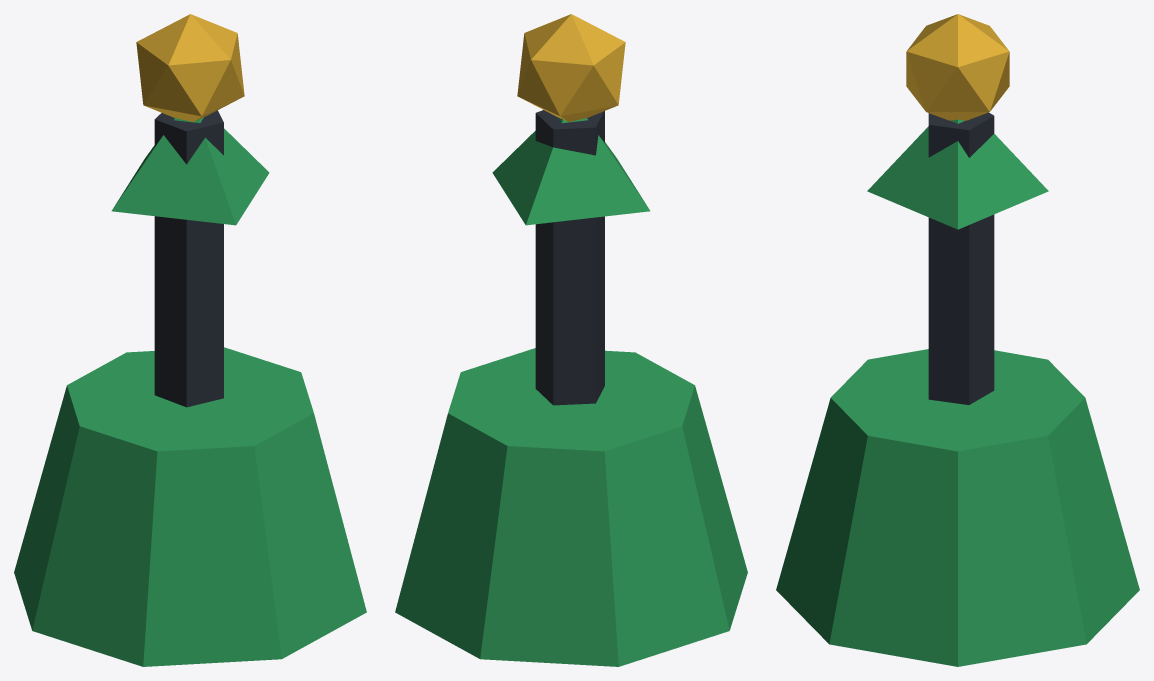
Rendered from buoy_green.glb.
3 views of the same model, side by side, from view 1: azimuth 30°, elevation 25°; view 2: azimuth 150°, elevation 25°; view 3: azimuth 270°, elevation 25° (orthographic).
Visible parts, largest first — view 1: buoy_green; view 2: buoy_green; view 3: buoy_green.
Boxes of the visible parts, x1,y1,x2,y2 form: buoy_green: (14, 14, 366, 666); buoy_green: (395, 14, 747, 666); buoy_green: (776, 14, 1139, 666).
Size of the model in its own units: 1.62 by 2.83 by 1.62.
